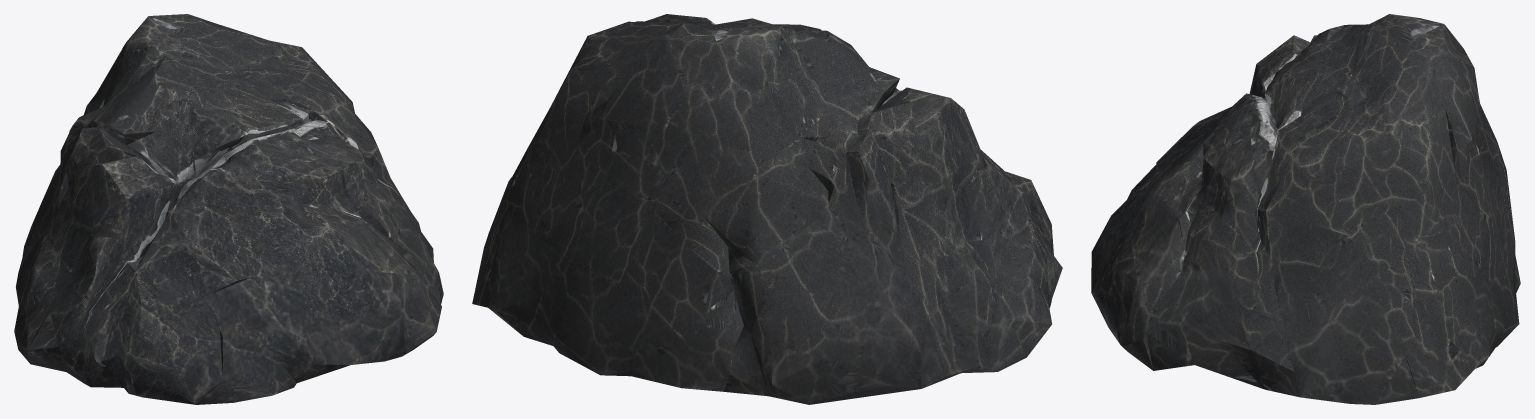
Rendered from fc_frostfractured_coastal_rock.glb.
3 renders of one model, left to right at view 1: azimuth 30°, elevation 25°; view 2: azimuth 150°, elevation 25°; view 3: azimuth 270°, elevation 25°, orthographic. The views are drawn at different scales.
Visible parts, largest first — view 1: mesh; view 2: mesh; view 3: mesh.
Part boxes in pixels (left/top/right/bottom): mesh: left=14, top=14, right=443, bottom=404; mesh: left=472, top=14, right=1062, bottom=404; mesh: left=1091, top=14, right=1520, bottom=404.
Bounding box in the file's own units: 1.9 × 1.13 × 1.63.
1 material, 1 textured.
